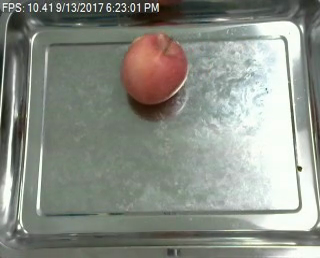Apple: (118, 30, 190, 108)
